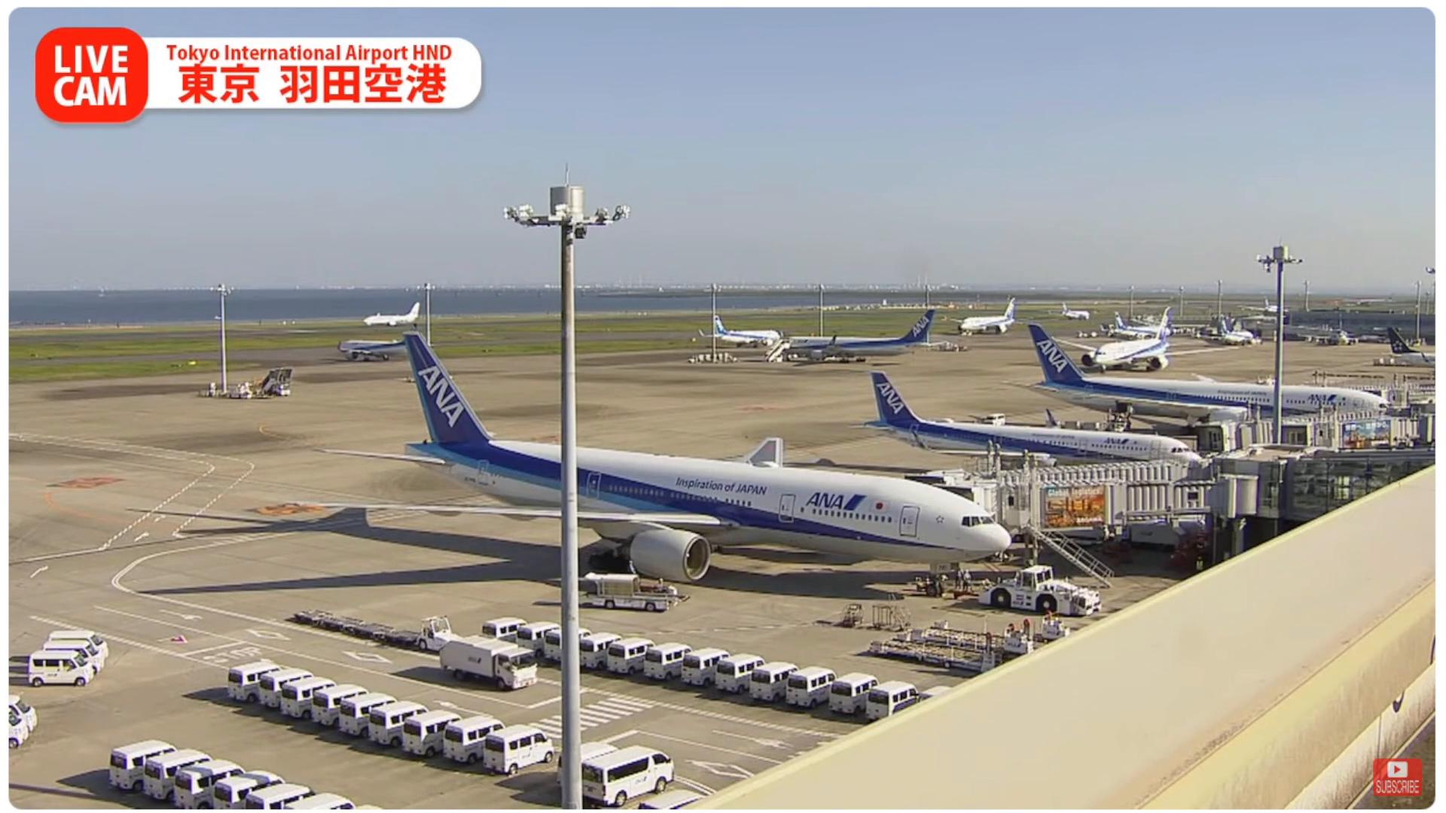APS: (982, 565, 1107, 615)
Aerobridge: (880, 463, 1198, 520), (990, 479, 1258, 539)
Airplane: (308, 328, 1018, 599)
Baggage truck: (433, 634, 541, 692)
Dolly: (288, 603, 424, 656)
JCPL: (864, 633, 1034, 678), (902, 615, 1075, 650)
Skyloader: (581, 572, 695, 617)
Tractor: (422, 614, 471, 660)
Window: (1281, 462, 1437, 524)
